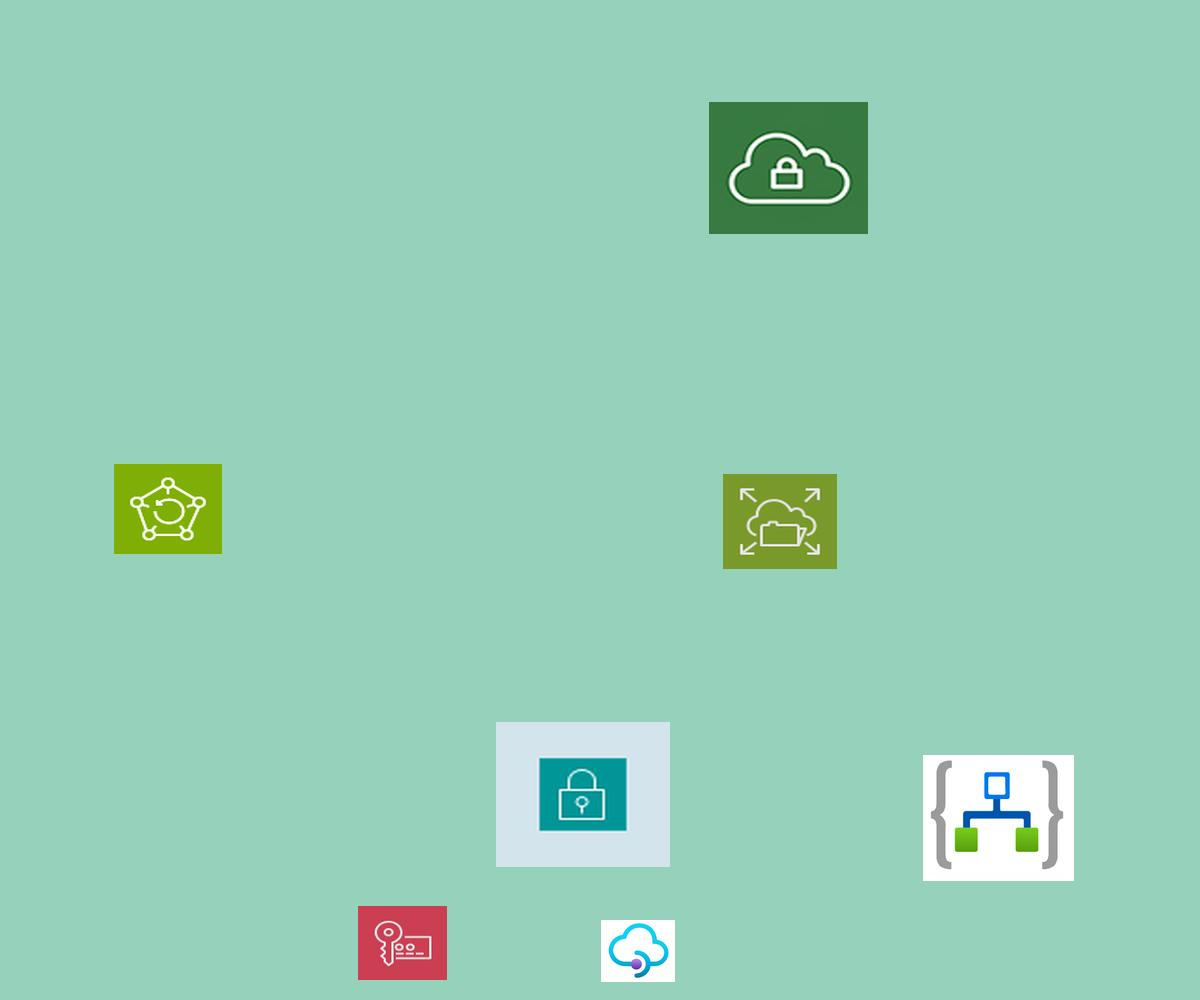AWS-Backup: (114, 464, 222, 554)
AWS-EFS: (723, 474, 837, 569)
AWS-Key-Management-Service: (358, 906, 447, 980)
AWS-Private-subnet: (496, 722, 670, 867)
AWS-Private_vpc: (709, 102, 868, 234)
Azure_api_gateway: (601, 920, 675, 982)
Azure_integration-204-Logic-Apps: (923, 755, 1074, 881)
